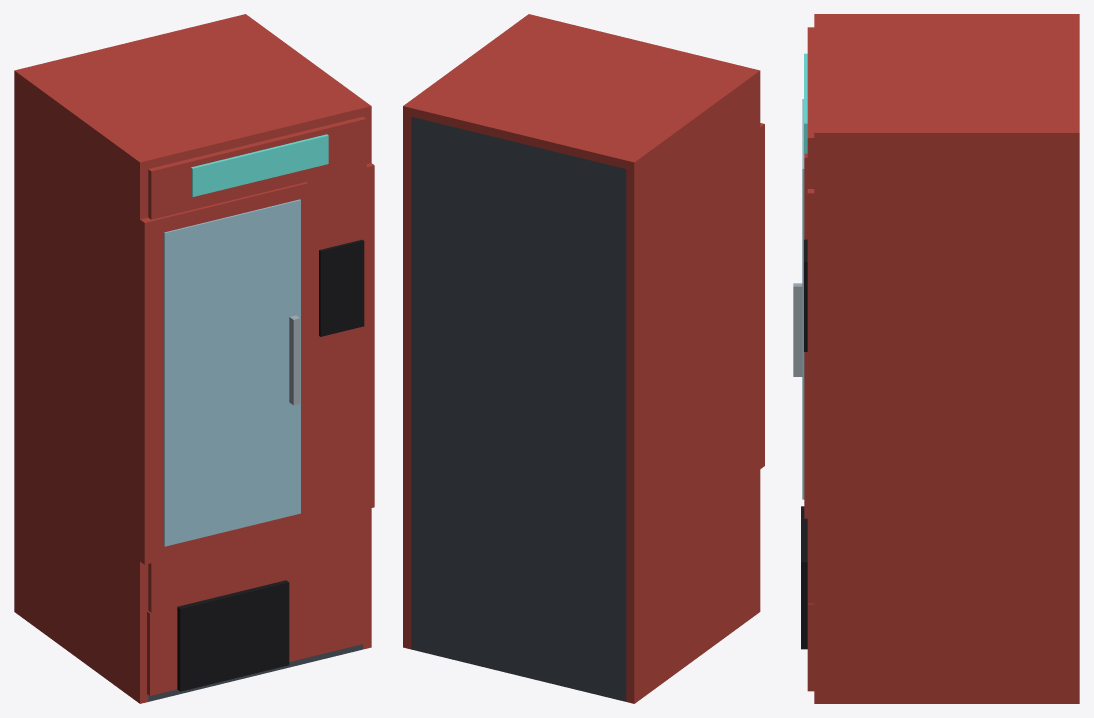
The model's file is GI_VendingMachine_01.glb.
3 views of the same model, side by side, from view 1: azimuth 30°, elevation 25°; view 2: azimuth 150°, elevation 25°; view 3: azimuth 270°, elevation 25° (orthographic). The views are drawn at different scales.
Parts seen in each view (by area): view 1: GI_VendingMachine_01, Door, Flap; view 2: GI_VendingMachine_01, Door; view 3: GI_VendingMachine_01, Door, Flap.
Part boxes in pixels (x1,y1,x2,y2): GI_VendingMachine_01: (14, 14, 374, 703); Door: (140, 182, 308, 564); Flap: (177, 580, 289, 691); GI_VendingMachine_01: (403, 14, 760, 703); Door: (760, 123, 764, 468); GI_VendingMachine_01: (804, 14, 1079, 703); Door: (793, 99, 807, 518); Flap: (801, 506, 807, 649).
Bounding box in the file's own units: 0.85 × 1.9 × 0.863.
1 material, 1 textured.
